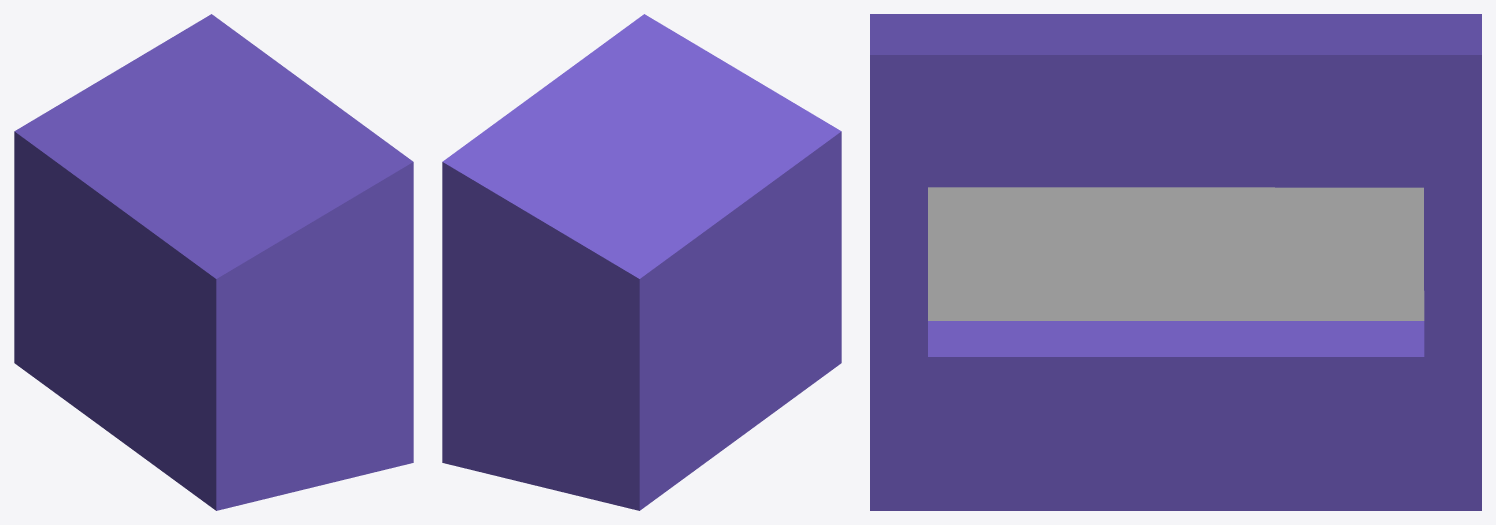
Rendered from stall02_s02.FBX.
3 views of the same model, side by side, from view 1: azimuth 30°, elevation 25°; view 2: azimuth 150°, elevation 25°; view 3: azimuth 270°, elevation 25° (orthographic). The views are drawn at different scales.
Parts seen in each view (by area): view 1: stall02_s02; view 2: stall02_s02; view 3: stall02_s02.
Part boxes in pixels (box(x1,y1,x2,y2)): stall02_s02: box(14, 14, 413, 510); stall02_s02: box(442, 14, 841, 510); stall02_s02: box(870, 14, 1481, 510).
Size of the model in its own units: 175 by 310 by 255.
1 material, 1 textured.
